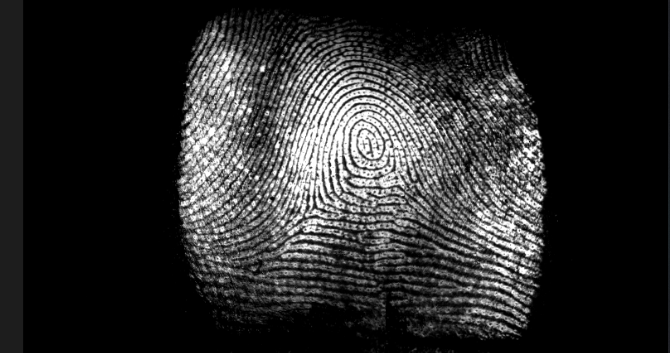deltas: (288, 179, 340, 228), (384, 159, 421, 198)
nucleo: (338, 115, 389, 159)
